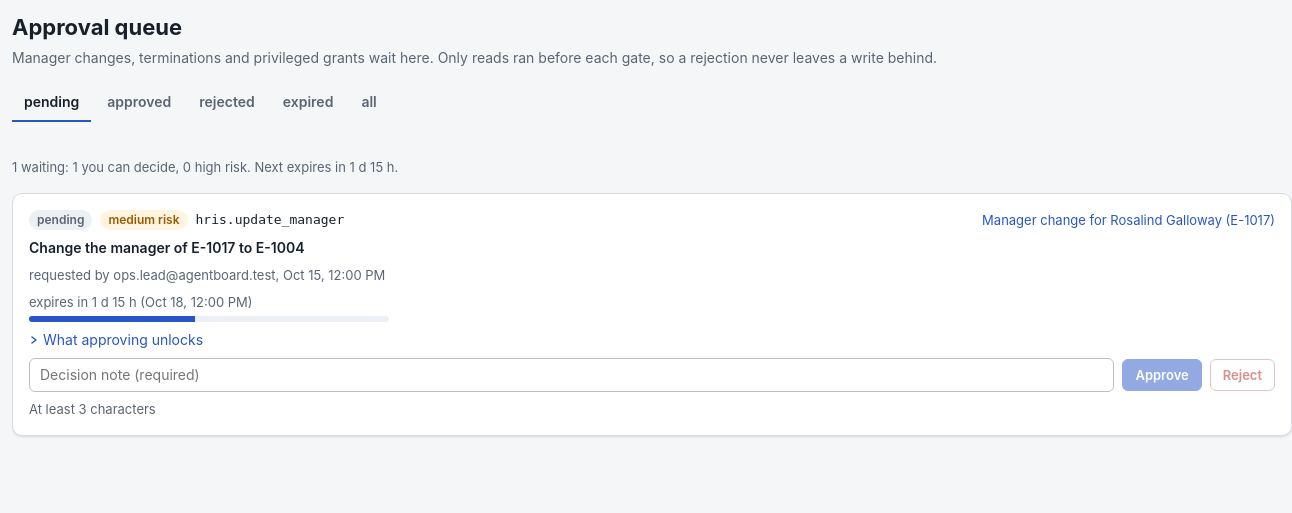
Approvals decisions › clears the status line when another status tab is chosen, since it described the previous list
Type "looks right" into the field labelled "Decision note". click: (572, 375)
box: left=29, top=358, right=1114, bottom=392
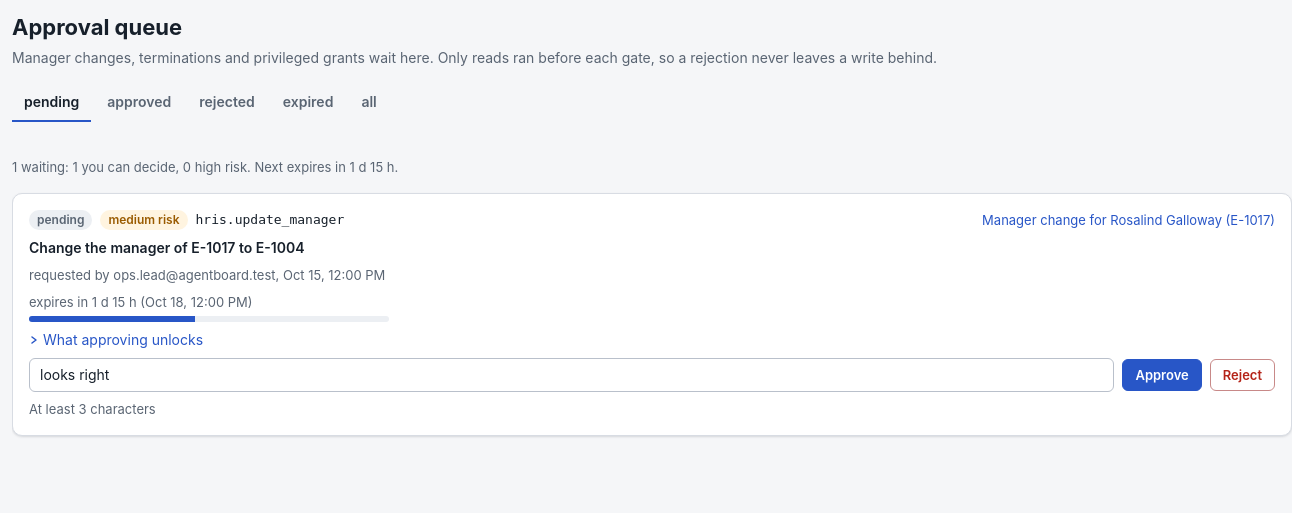
Click the button "Approve". click: (1162, 375)
box: left=1122, top=359, right=1202, bottom=391
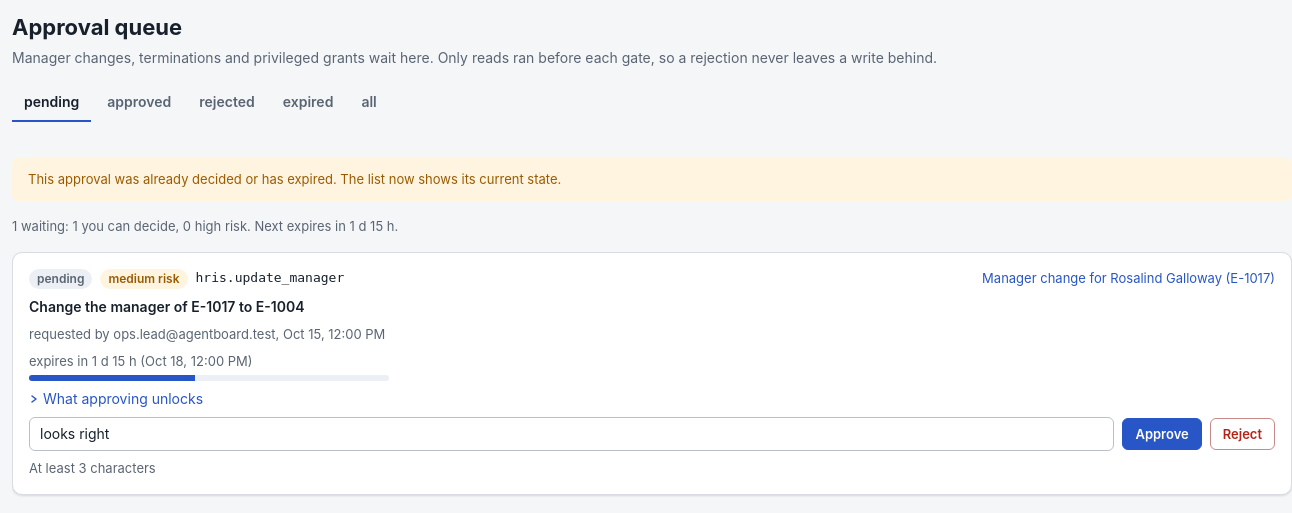
Result: the message with test id "decision-status" shows "This approval was already decided or has expired." at left=28, top=172, right=561, bottom=188
Click the tab "rejected". click: (227, 103)
box: left=187, top=84, right=267, bottom=122
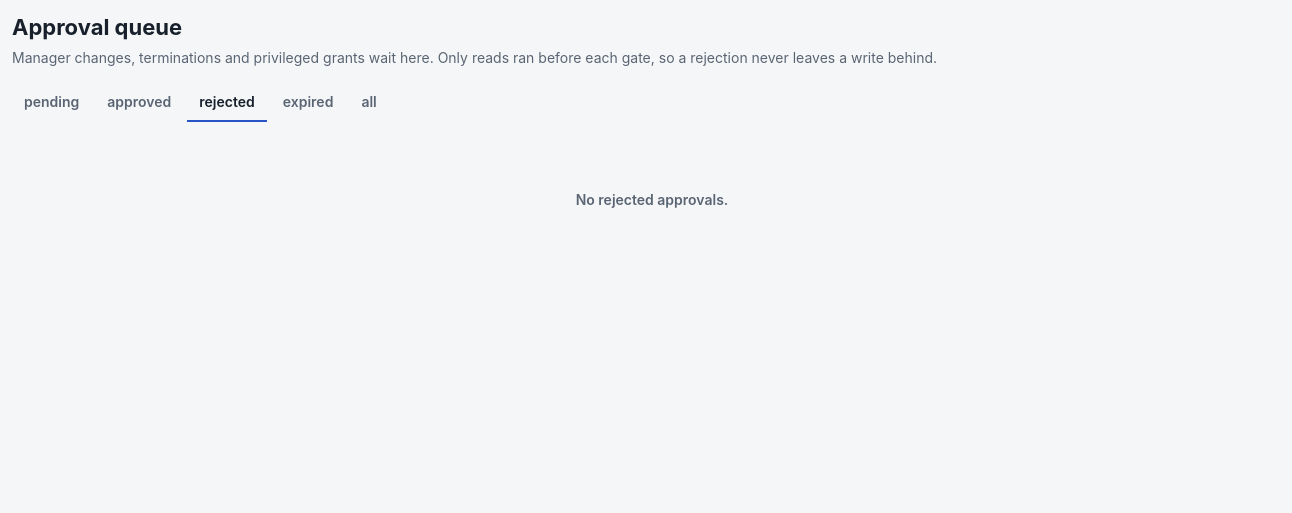
Result: the text "No rejected approvals." is shown at left=576, top=192, right=728, bottom=208
